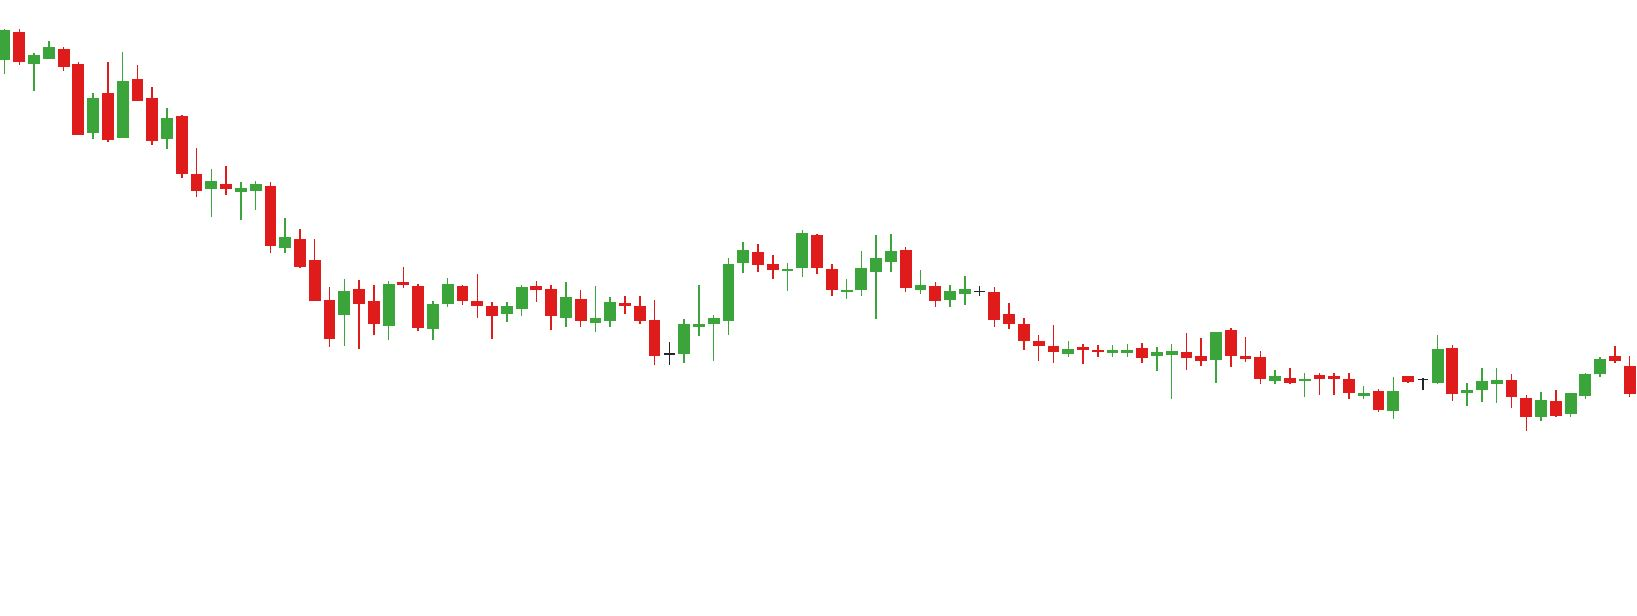sell: (734, 228, 827, 277)
